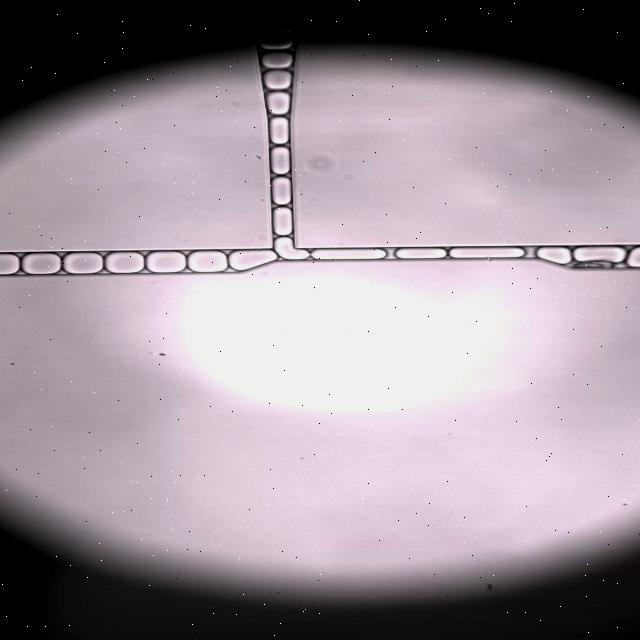L: (274, 237, 306, 259), (536, 247, 570, 265), (262, 70, 291, 90), (261, 51, 293, 69), (395, 248, 446, 259), (266, 92, 290, 115), (272, 177, 291, 205), (269, 117, 288, 144), (271, 147, 290, 174), (273, 208, 292, 235), (259, 39, 293, 50), (626, 247, 640, 267)
S: (573, 247, 625, 265), (229, 251, 276, 270), (63, 252, 102, 273), (449, 247, 523, 258), (22, 253, 60, 274), (146, 252, 185, 272), (188, 252, 227, 272), (106, 252, 143, 273), (312, 249, 385, 259), (0, 254, 19, 274)
